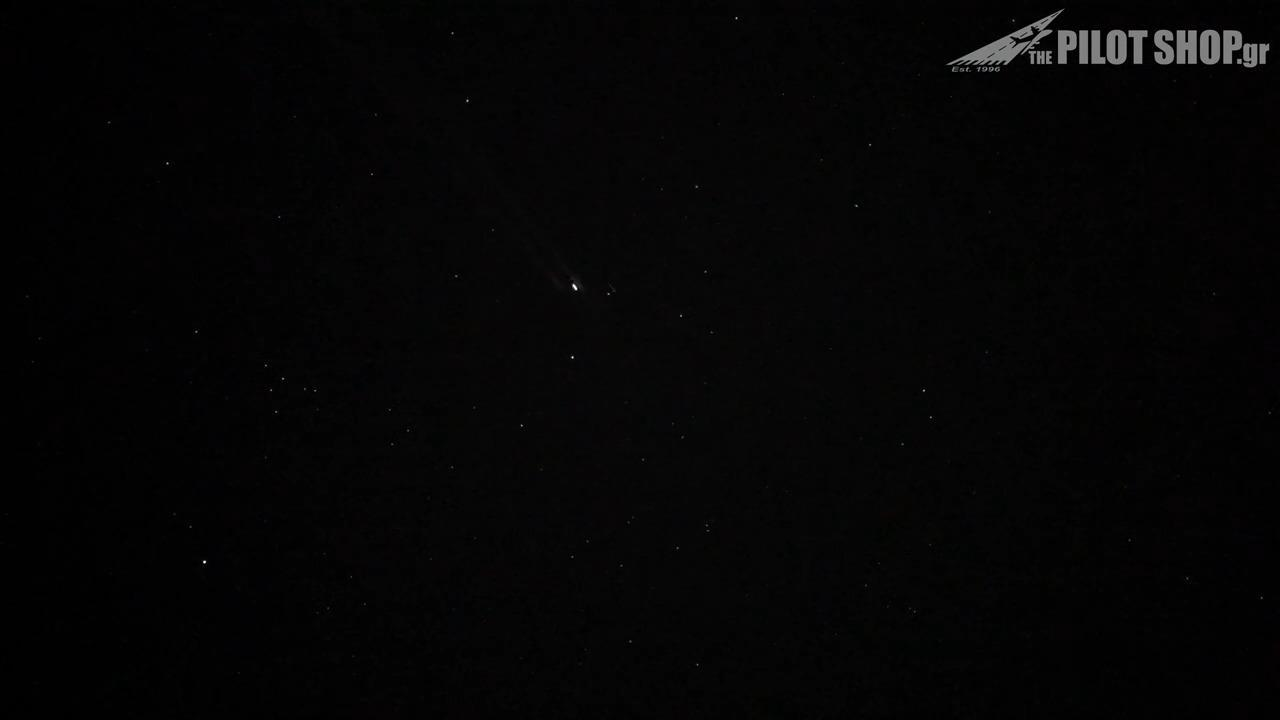Plane: (531, 247, 622, 321)
